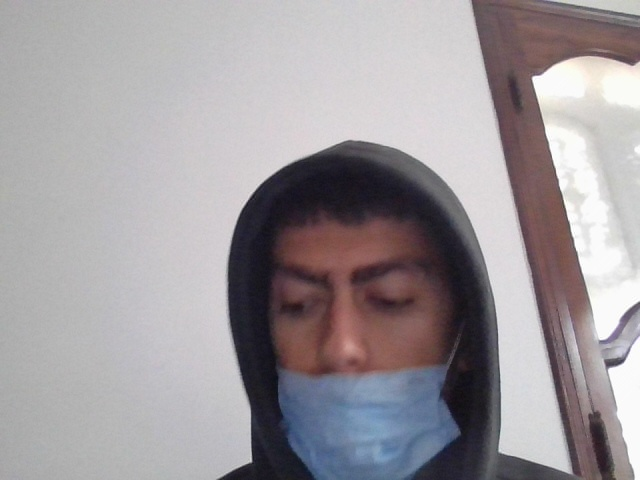mask_weared_incorrect: (256, 187, 478, 476)
